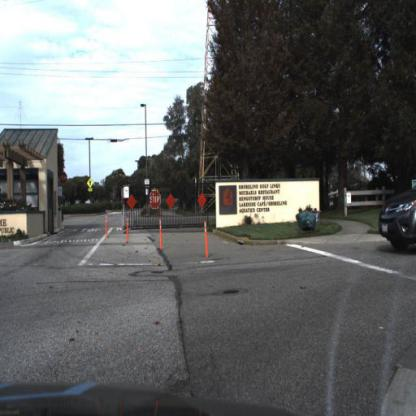car: (377, 176, 416, 265)
